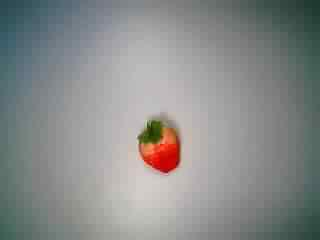strawberry: (128, 115, 183, 178)
